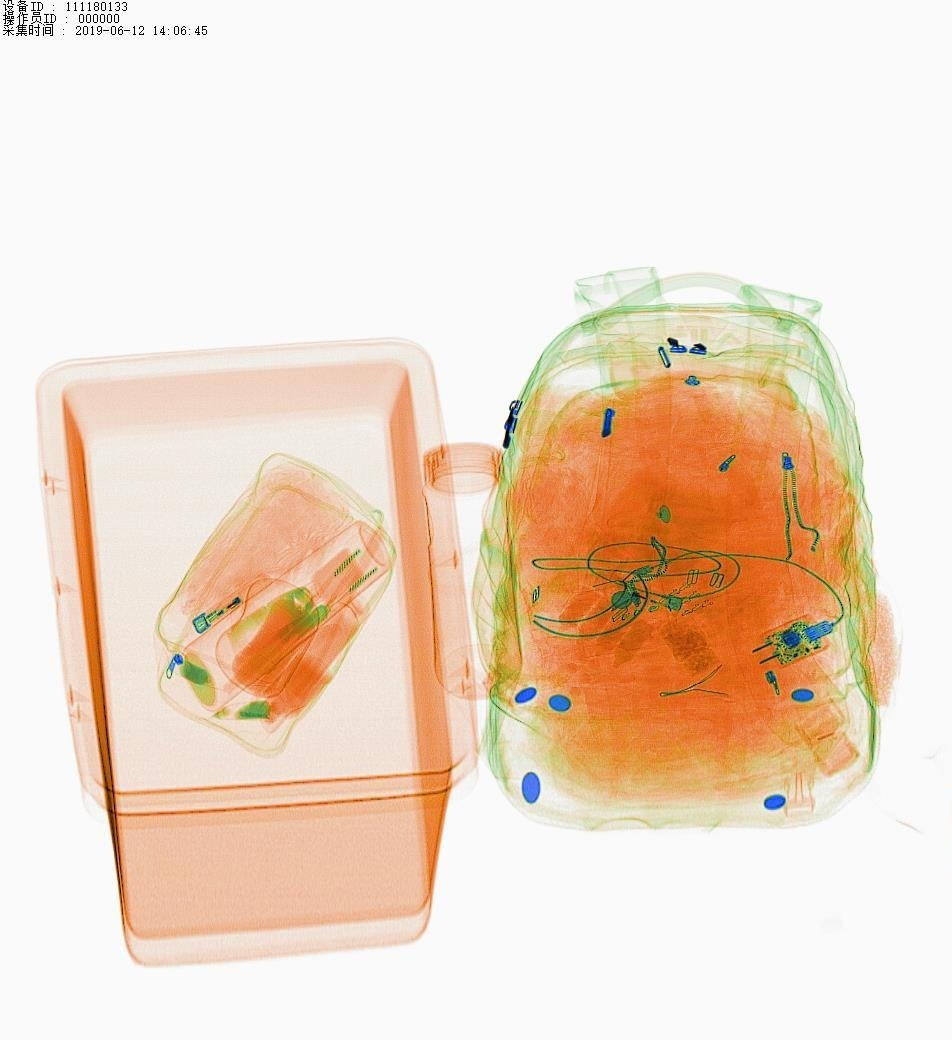NonmetallicFire: (592, 559, 701, 619), (179, 582, 274, 631)
